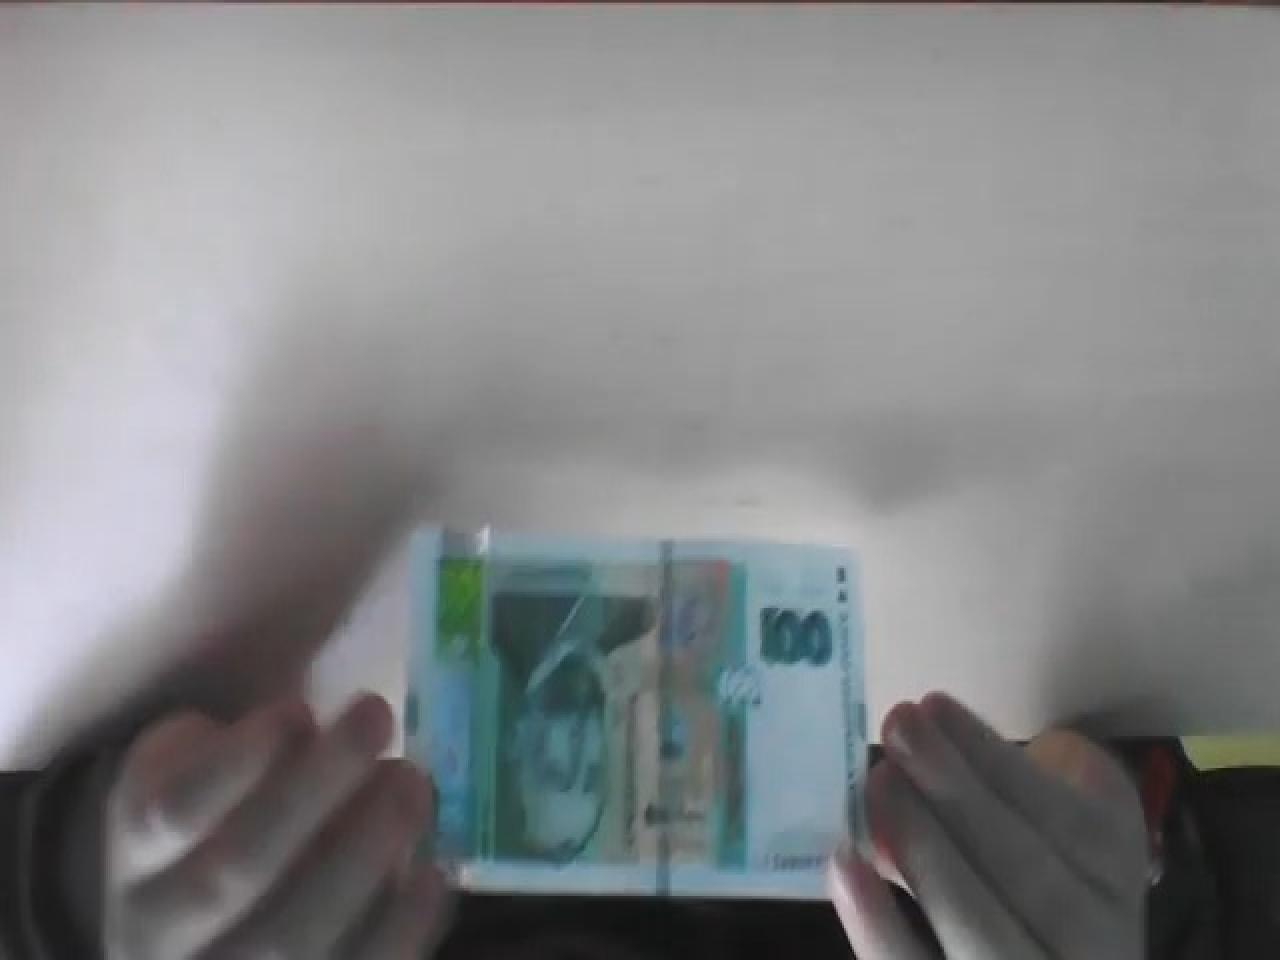100leva: (386, 525, 868, 898)
